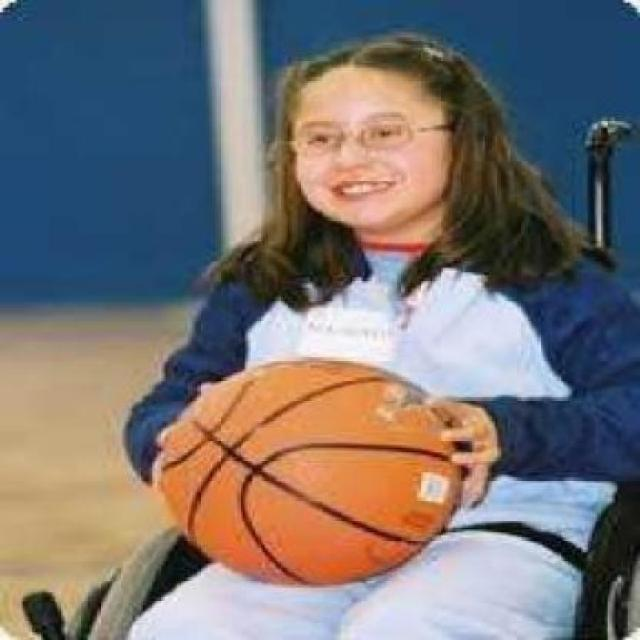basketball: (152, 344, 466, 604)
